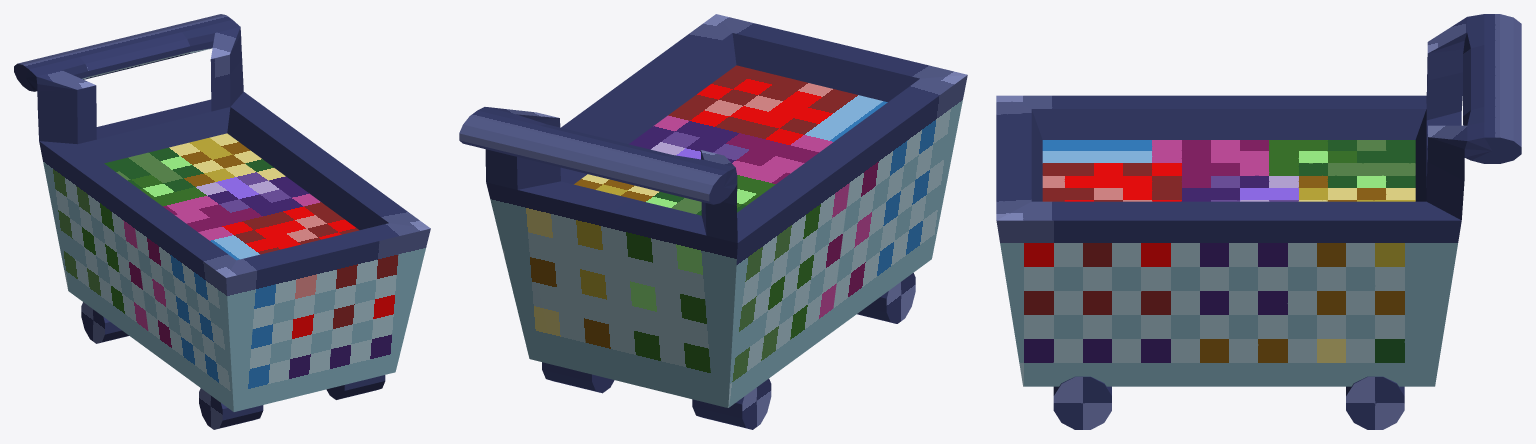
The model's file is cart.gltf.
3 views of the same model, side by side, from view 1: azimuth 30°, elevation 25°; view 2: azimuth 150°, elevation 25°; view 3: azimuth 270°, elevation 25° (orthographic). The views are drawn at different scales.
Visible parts, largest first — view 1: cuboid; view 2: cuboid; view 3: cuboid.
Part boxes in pixels (left/top/right/bottom): cuboid: left=14, top=14, right=430, bottom=429; cuboid: left=459, top=14, right=967, bottom=429; cuboid: left=996, top=14, right=1521, bottom=429.
Bounding box in the file's own units: 0.6314 × 0.7188 × 1.12.
Materials: 1 (1 with a texture image).
